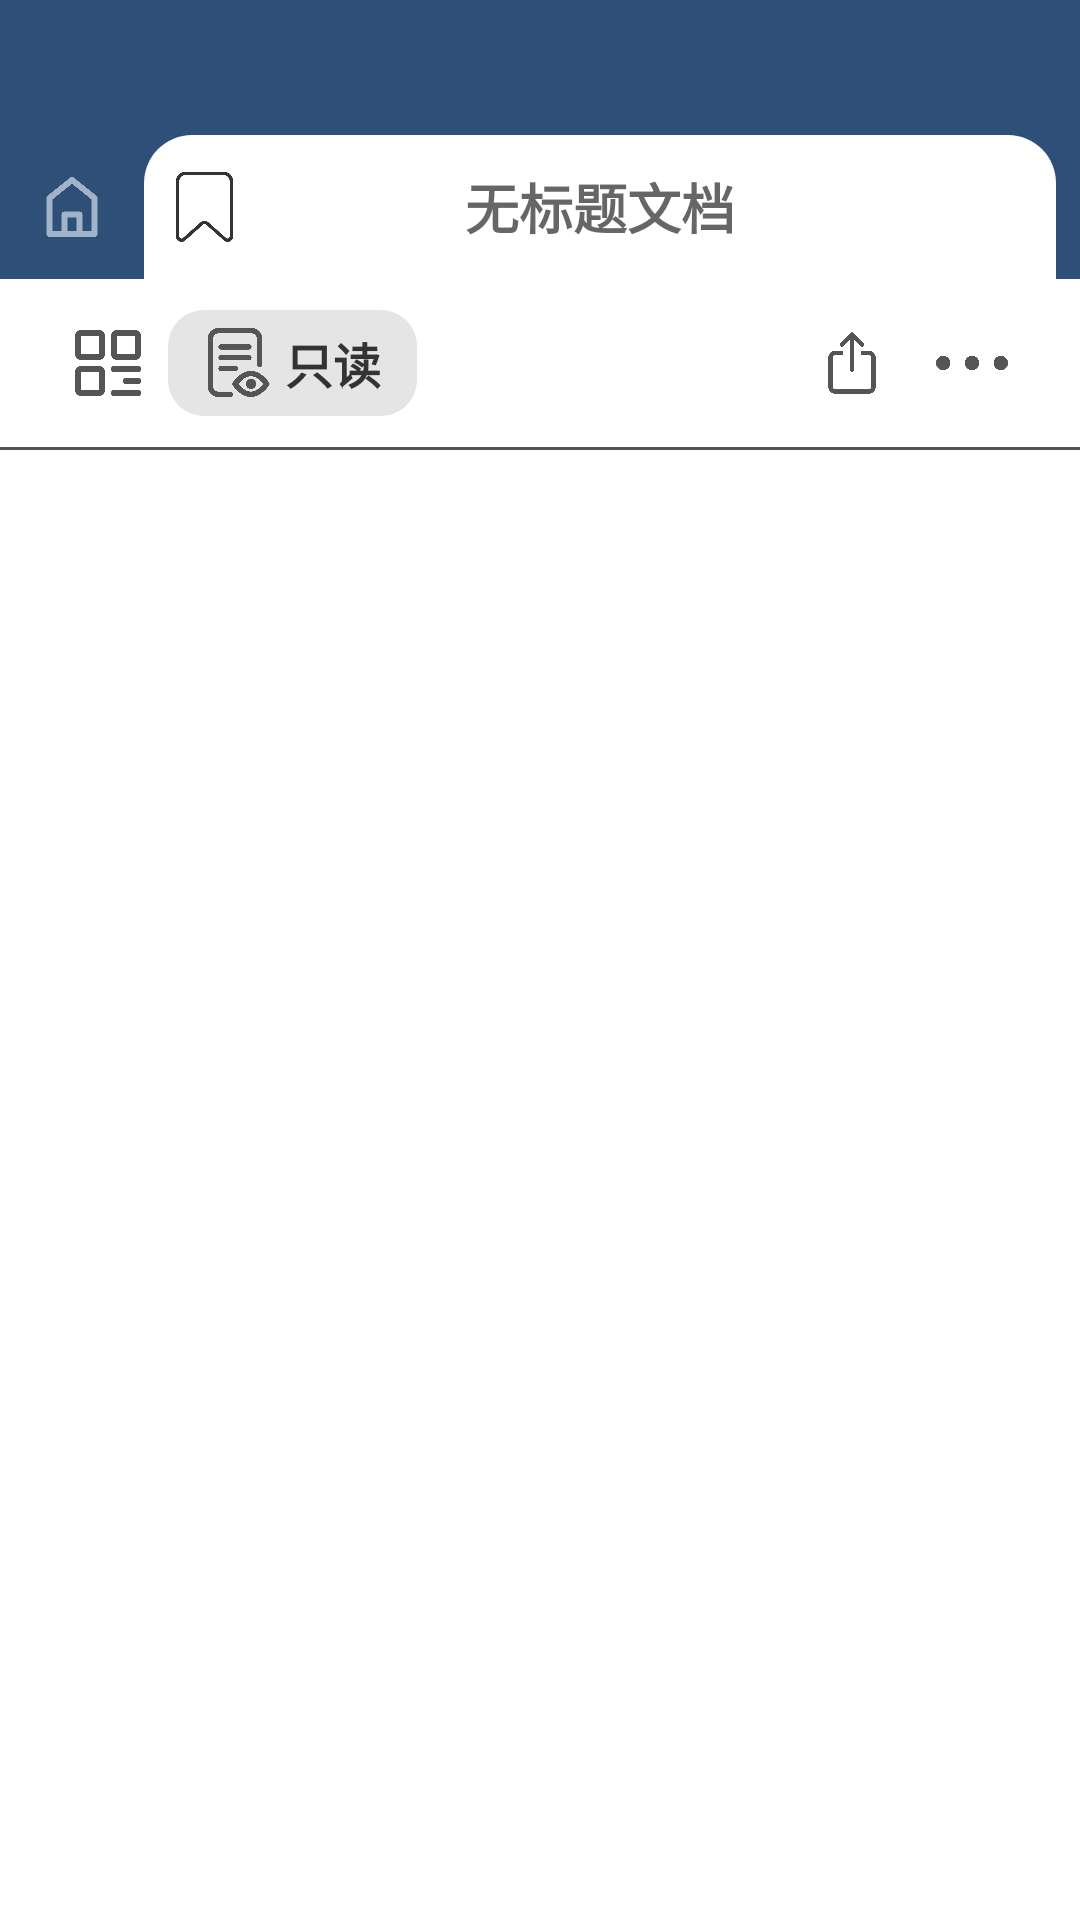

Point at icon controls on the screen. Image size 1080 x 1920, points as [x,y].
detail home: [72,207]
detail more: [972,363]
detail readonly: [239,362]
detail share: [852,363]
detail thumbnail: [108,363]
